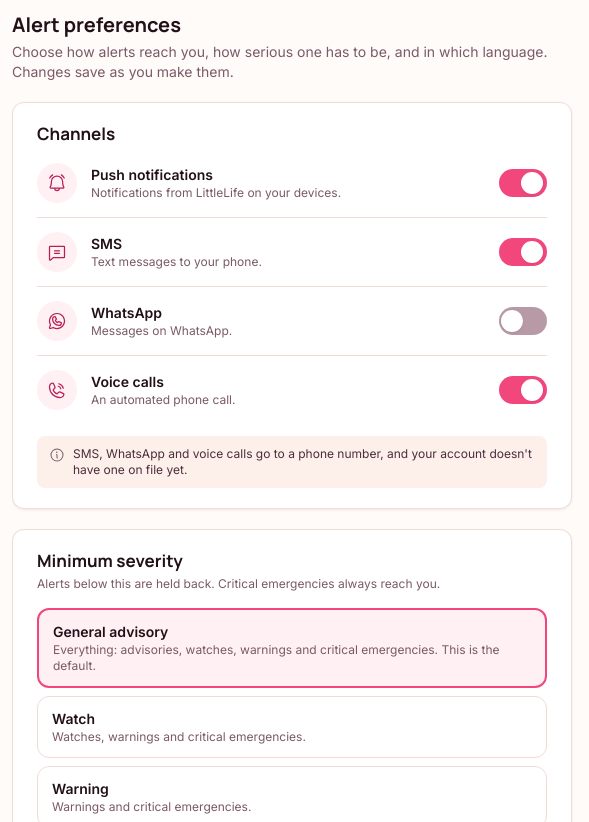
Test: AlertPreferencesPage › saving as you go › keeps quick taps in order and does not flicker: two switches tapped at once both end up as tapped
Click the switch named "WhatsApp" in the row of "Messages on WhatsApp." at (523, 321), box [499,307,547,335]
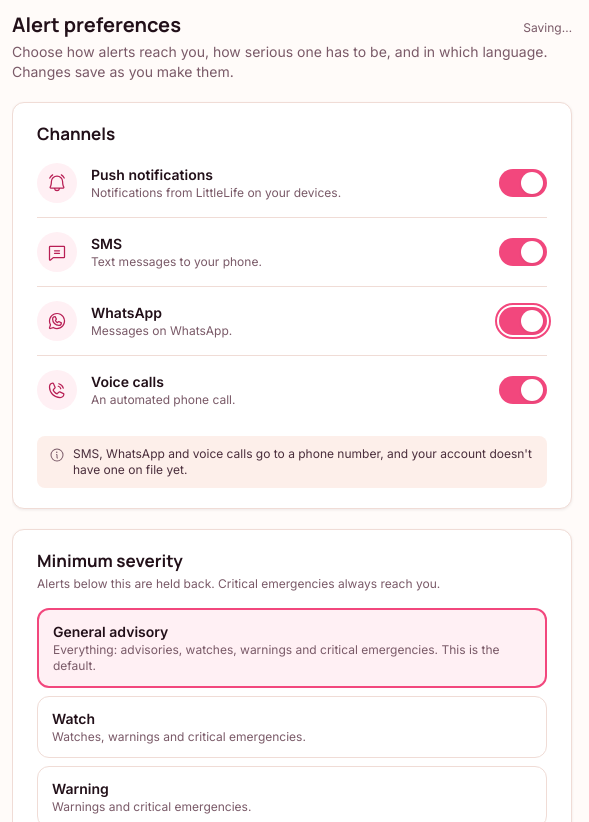
Click the switch named "Voice calls" in the row of "An automated phone call." at (523, 390), box [499,376,547,404]
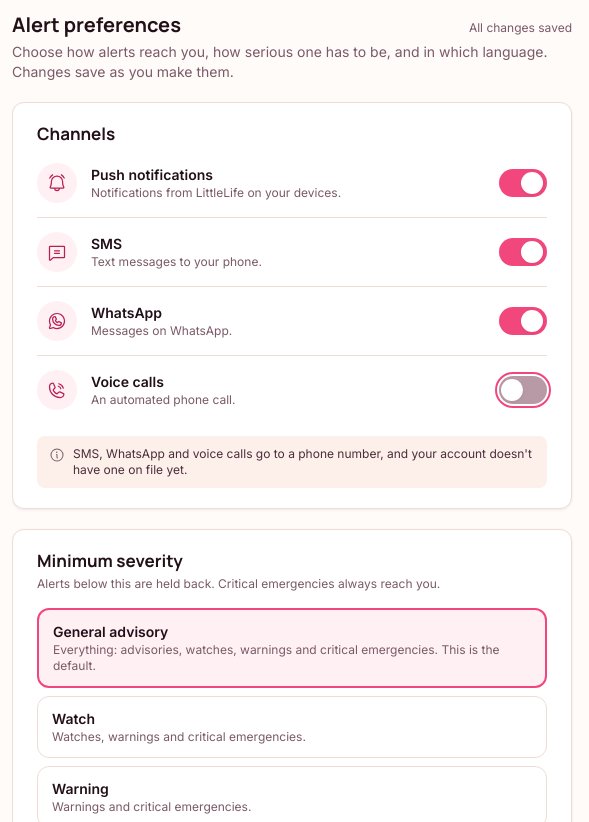
Now the switch named "WhatsApp" in the row of "Messages on WhatsApp." is checked, box [499,307,547,335]
Now the switch named "Voice calls" in the row of "An automated phone call." is not checked, box [499,376,547,404]
Now the text "All changes saved" is shown, box [469,20,572,36]
